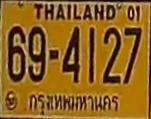1: (86, 25, 100, 84)
2: (102, 27, 122, 84)
4: (61, 26, 80, 82)
6: (9, 26, 26, 80)
7: (124, 27, 147, 84)
9: (28, 28, 46, 81)
BKK: (26, 91, 123, 116)
